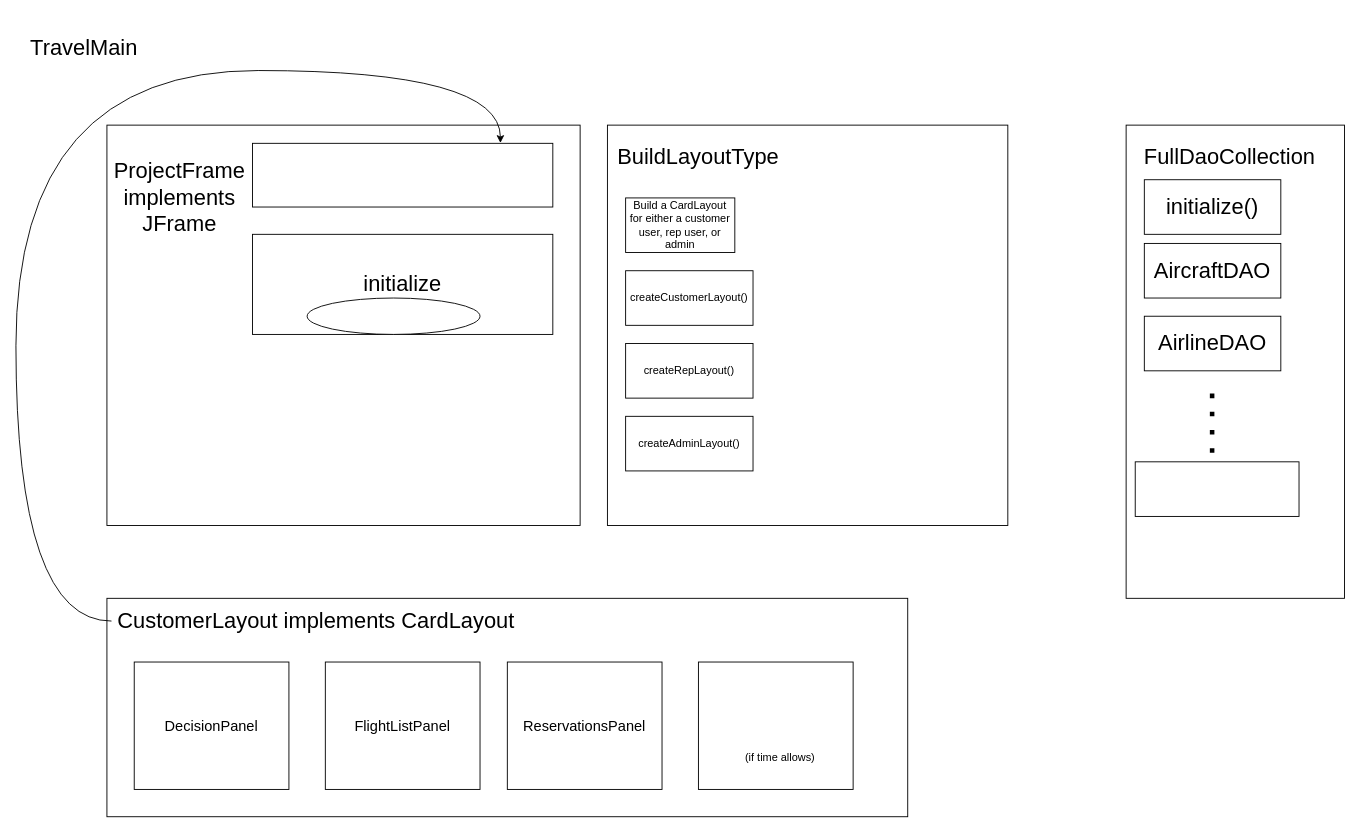
Image size: 1360x833. Some labels were removed from this diagram. Each missing label, with the box of its shape:
Builds for the necessary layout: (306, 297, 480, 334)
Complaints: (698, 661, 853, 789)
Getters/Setters: (1134, 461, 1299, 516)
UILayout implements CardLayout: (252, 142, 553, 207)
